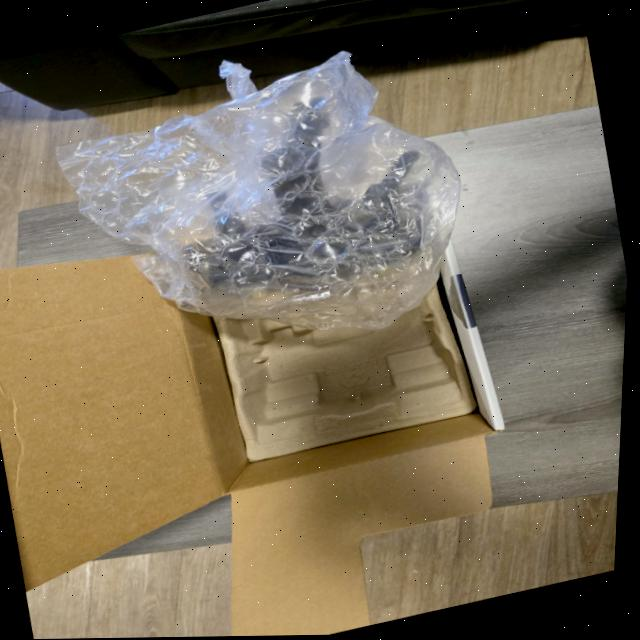9c: (57, 51, 459, 329)
